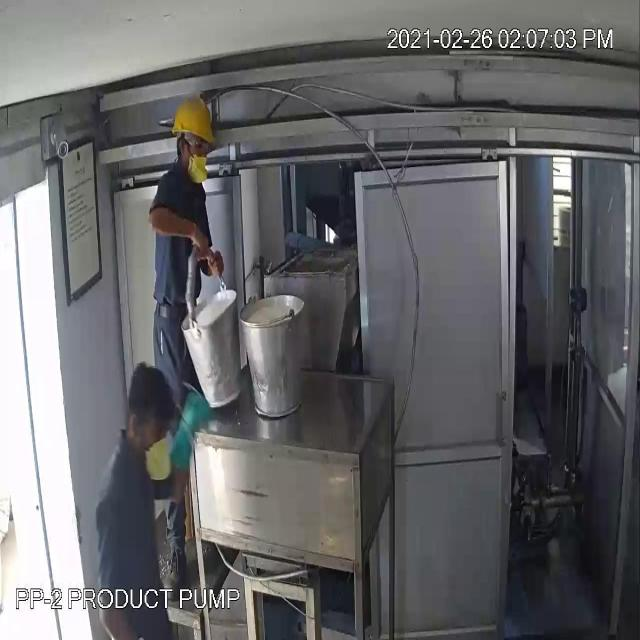helmet: (159, 90, 232, 156)
no-helmet: (121, 354, 184, 434)
